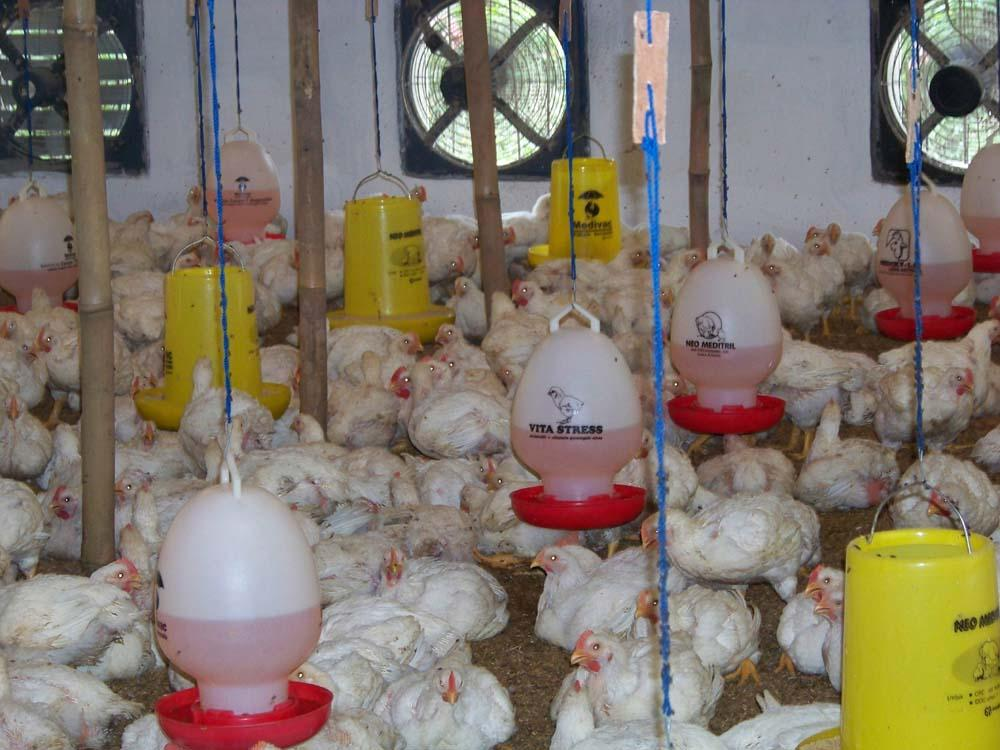chicken: (570, 626, 724, 722), (0, 559, 149, 652), (646, 494, 815, 575), (640, 586, 768, 679), (393, 656, 515, 749), (389, 363, 511, 456), (379, 546, 506, 635), (800, 400, 894, 508), (533, 546, 639, 637), (860, 364, 976, 444), (891, 451, 994, 530), (884, 317, 997, 381), (186, 353, 271, 432)
